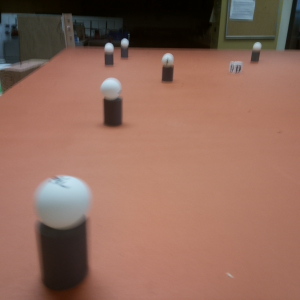blockD: (229, 60, 241, 76)
corner: (60, 13, 74, 48)
obstacle: (36, 176, 93, 289), (102, 78, 122, 126), (161, 53, 174, 83), (104, 44, 115, 66), (251, 43, 261, 64), (120, 39, 129, 59)
